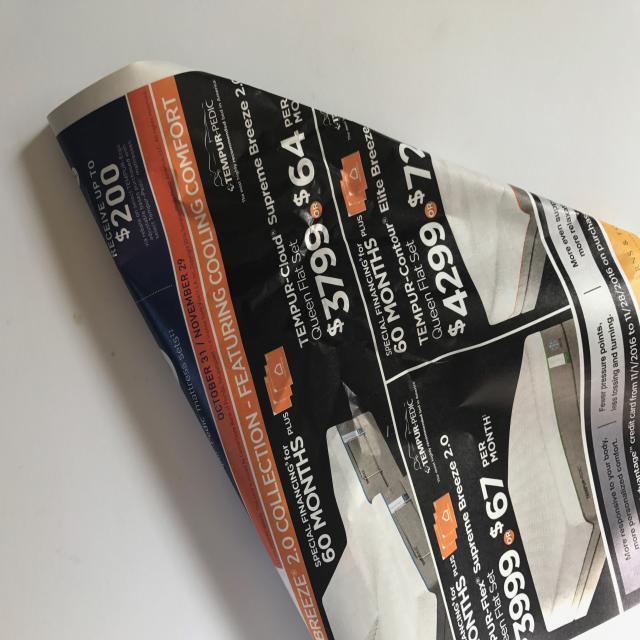paper: (45, 58, 639, 639)
